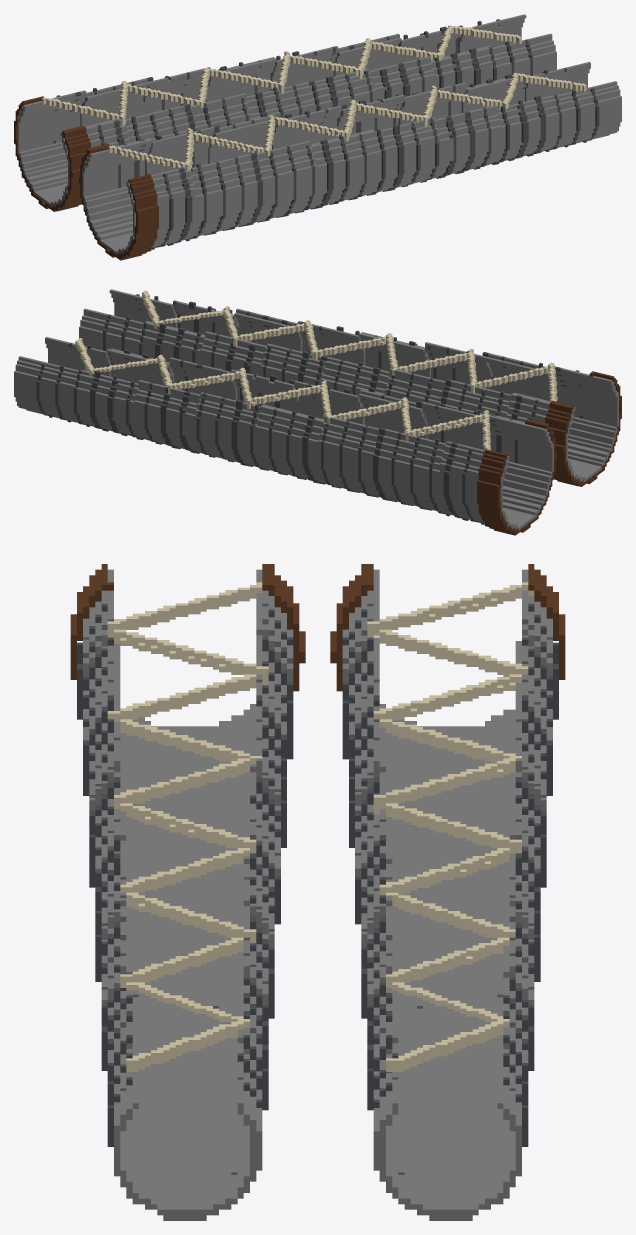
The model's file is chainmail_half_leggings.glb.
3 renders of one model, top to bottom at view 1: azimuth 30°, elevation 25°; view 2: azimuth 150°, elevation 25°; view 3: azimuth 270°, elevation 25°, orthographic. The views are drawn at different scales.
Parts seen in each view (by area): view 1: chainmail_half_leggings:compound; view 2: chainmail_half_leggings:compound; view 3: chainmail_half_leggings:compound.
Boxes of the visible parts, x1,y1,x2,y2 form: chainmail_half_leggings:compound: [14, 14, 621, 260]; chainmail_half_leggings:compound: [14, 289, 621, 535]; chainmail_half_leggings:compound: [70, 564, 565, 1220].
Bounding box in the file's own units: 0.74 × 0.128 × 0.32.
